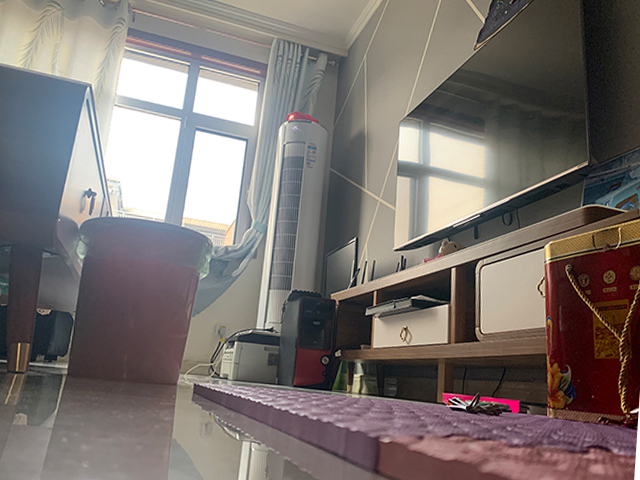table: (1, 62, 113, 373)
trashcan: (64, 215, 212, 385)
wire: (184, 327, 225, 380)
